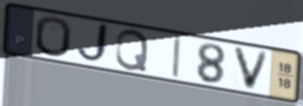8: (194, 42, 228, 85)
I: (171, 35, 184, 81)
J: (74, 21, 112, 66)
O: (34, 15, 74, 59)
Q: (113, 28, 151, 73)
V: (231, 45, 272, 93)
